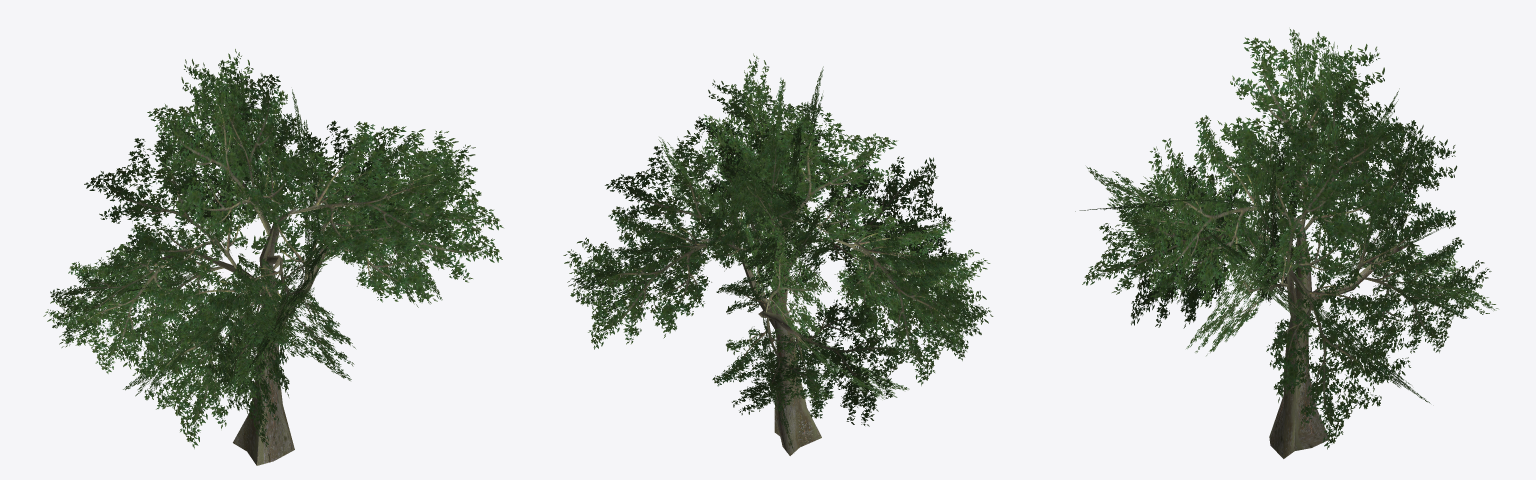
File: obj__tree2.obj
3 renders of one model, left to right at view 1: azimuth 30°, elevation 25°; view 2: azimuth 150°, elevation 25°; view 3: azimuth 270°, elevation 25°, orthographic. The views are drawn at different scales.
Parts seen in each view (by area): view 1: tree2.tga; view 2: tree2.tga; view 3: tree2.tga.
Part boxes in pixels (<box>): tree2.tga: <box>43,49,503,465</box>; tree2.tga: <box>563,53,993,455</box>; tree2.tga: <box>1075,29,1498,458</box>.
Size of the model in its own units: 63.37 by 55.69 by 56.45.
1 material, 1 textured.
